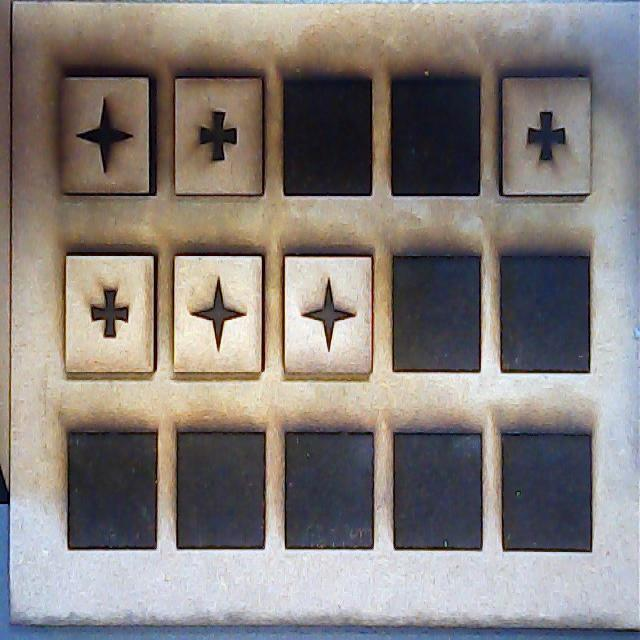star: (282, 251, 374, 379), (61, 75, 153, 197), (176, 258, 264, 380)
temple: (172, 75, 264, 197), (64, 254, 155, 374), (500, 78, 588, 196)
